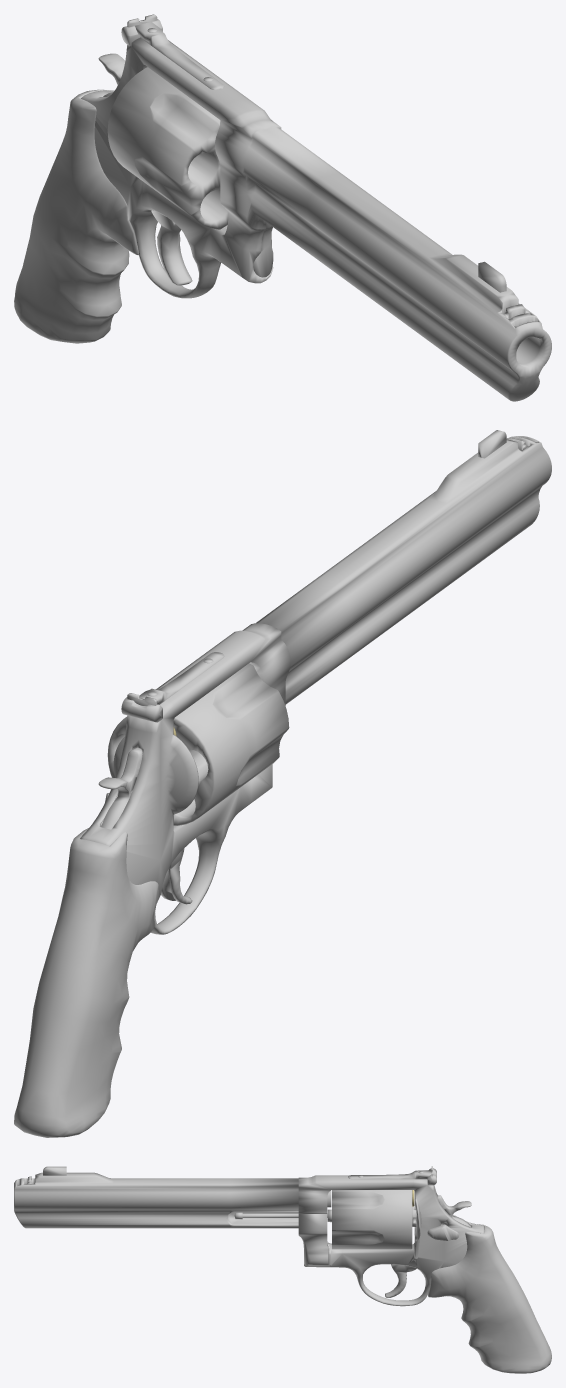
File: Gun.obj
The picture shows the model from 3 angles, top to bottom: view 1: azimuth 30°, elevation 25°; view 2: azimuth 150°, elevation 25°; view 3: azimuth 270°, elevation 25°; orthographic projection. The views are drawn at different scales.
Visible parts, largest first — view 1: Revolver; view 2: Revolver; view 3: Revolver.
Boxes of the visible parts, <box> form: Revolver: <box>14,14,551,401</box>; Revolver: <box>14,430,551,1137</box>; Revolver: <box>14,1166,551,1373</box>.
Size of the model in its own units: 9.2 by 30.37 by 73.88.
